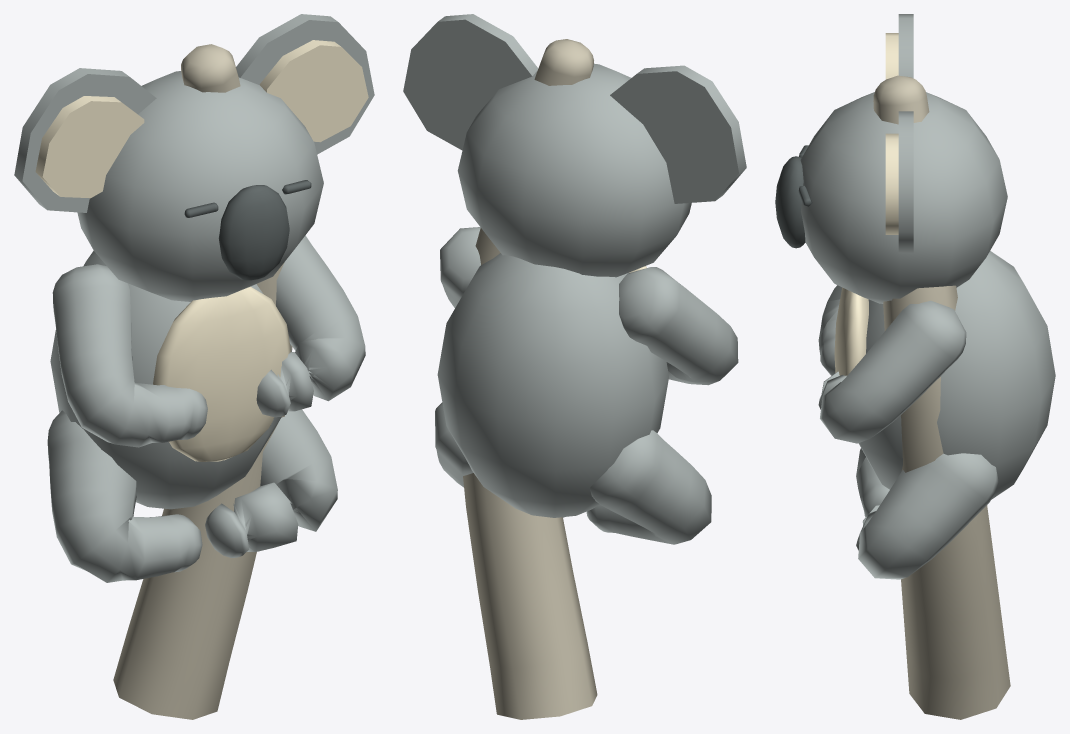
The model's file is outback-and-australian-wildlife-koala-sleeping-81ad3bd4__5908.glb.
3 views of the same model, side by side, from view 1: azimuth 30°, elevation 25°; view 2: azimuth 150°, elevation 25°; view 3: azimuth 270°, elevation 25° (orthographic). The views are drawn at different scales.
Visible parts, largest first — view 1: koala-sleeping; view 2: koala-sleeping; view 3: koala-sleeping.
Part boxes in pixels (box(x1,y1,x2,y2)): koala-sleeping: box(14, 14, 374, 719); koala-sleeping: box(403, 14, 746, 719); koala-sleeping: box(775, 14, 1055, 719).
Bounding box in the file's own units: 0.6284 × 1.16 × 0.469.
